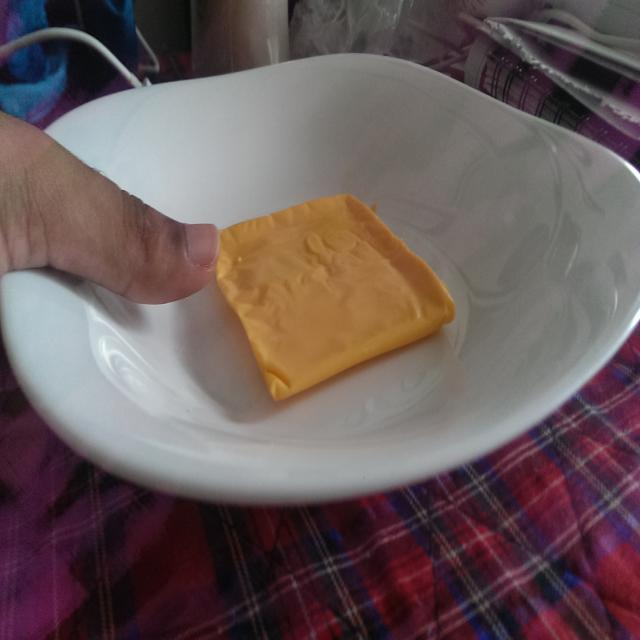Cheese: (204, 185, 464, 415)
Finger: (104, 169, 222, 323)
